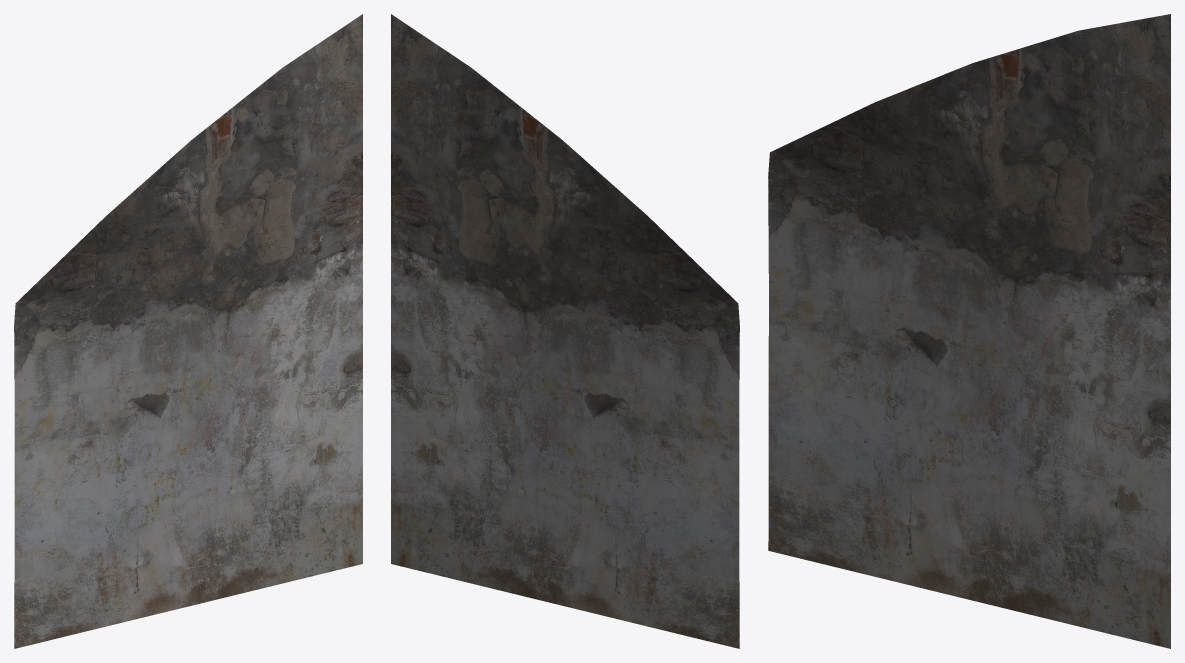
Rendered from SM_CryptWall_02_06.fbx.
The picture shows the model from 3 angles, left to right: view 1: azimuth 30°, elevation 25°; view 2: azimuth 150°, elevation 25°; view 3: azimuth 330°, elevation 25°; orthographic projection. The views are drawn at different scales.
Visible parts, largest first — view 1: sm_CryptWall_02_06_LOD0; view 2: sm_CryptWall_02_06_LOD0; view 3: sm_CryptWall_02_06_LOD0.
Boxes of the visible parts, x1,y1,x2,y2 form: sm_CryptWall_02_06_LOD0: (14, 14, 362, 648); sm_CryptWall_02_06_LOD0: (391, 14, 739, 648); sm_CryptWall_02_06_LOD0: (768, 14, 1170, 648).
Size of the model in its own units: 0.000245 by 190 by 287.
